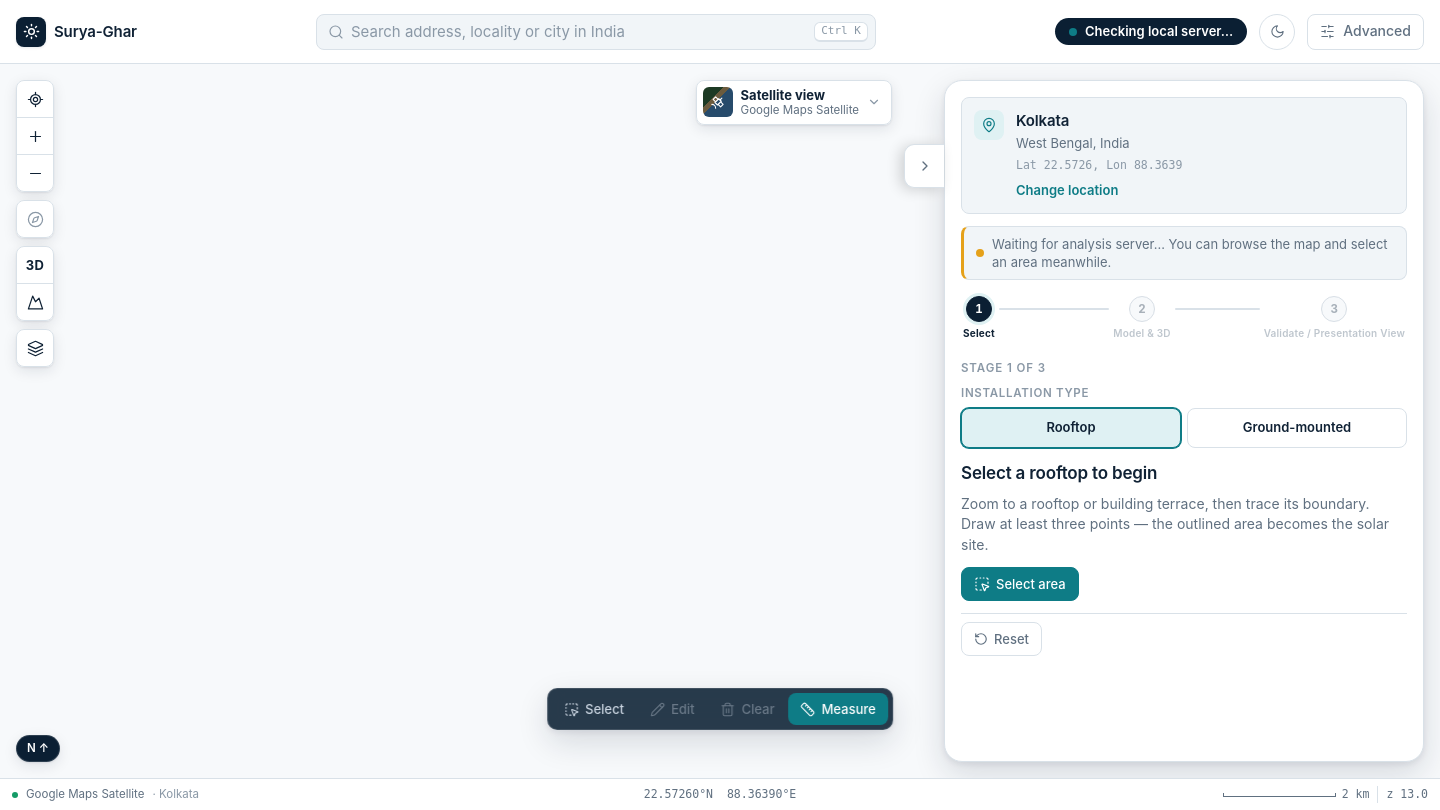
Test: App workspace › offers a theme toggle in the header that switches to dark
The width and height of the screenshot is (1440, 810).
Click the button named "Switch to dark theme".
click(1277, 32)  # box [1259,14,1295,50]
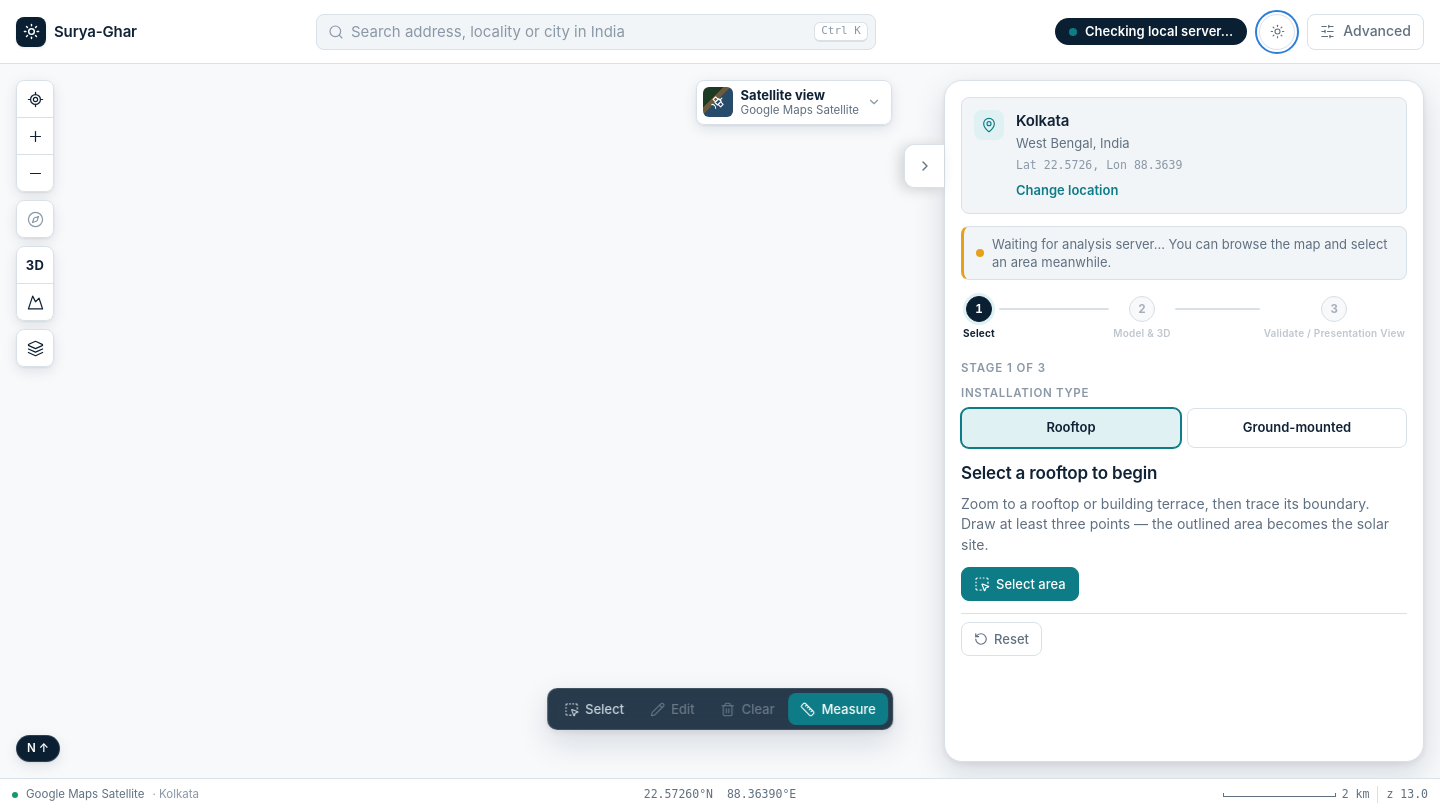
Expected: the button named "Switch to light theme" is shown, [1259,14,1295,50]
